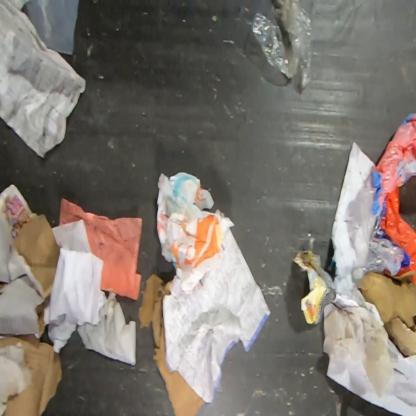cardboard: (136, 273, 205, 416), (0, 215, 60, 335), (357, 270, 416, 359), (0, 333, 62, 416)
soft_plastic: (363, 113, 415, 276), (249, 0, 317, 89), (20, 0, 80, 55)
